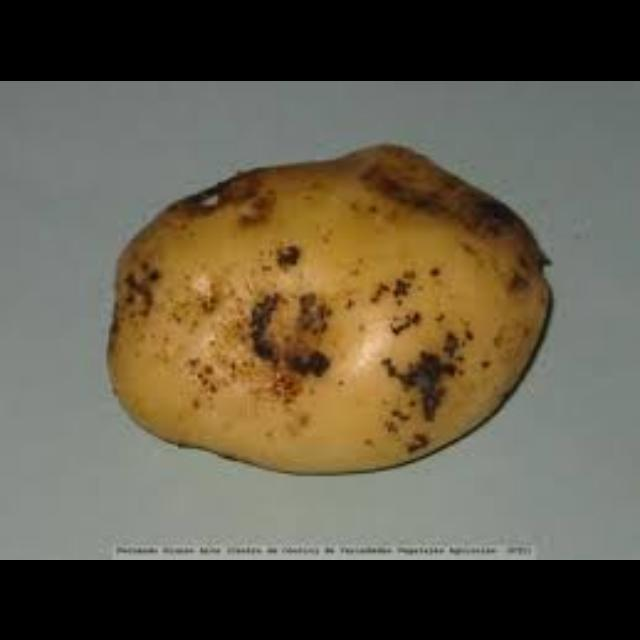Diseased-fungal potato: (107, 132, 567, 478)
